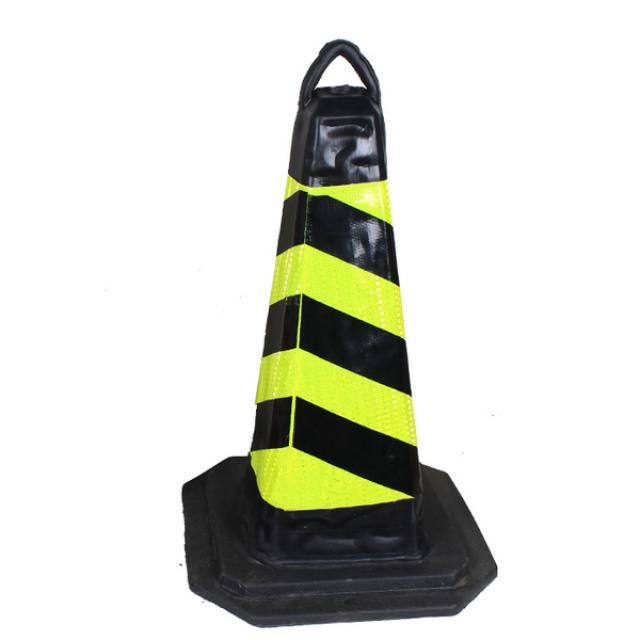reflective_cone: (172, 35, 503, 626)
